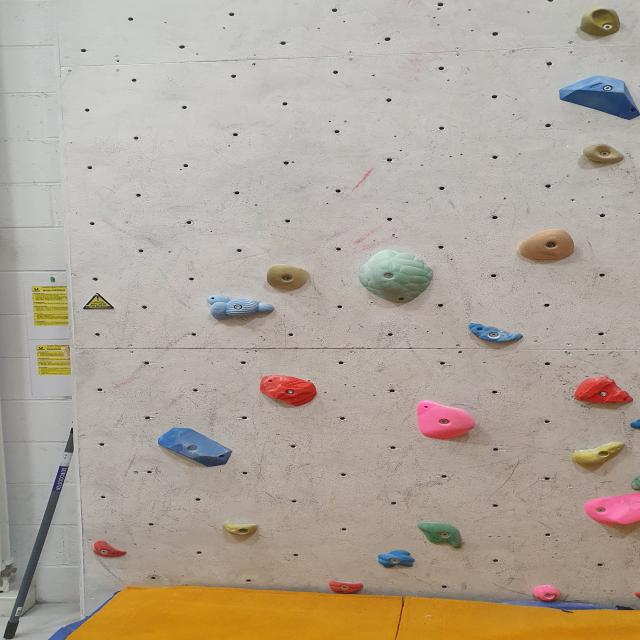Crimp: (156, 427, 232, 468), (256, 372, 319, 409), (571, 375, 637, 408), (465, 320, 530, 347), (417, 520, 466, 549), (222, 522, 260, 540), (92, 540, 129, 558), (376, 552, 416, 568), (531, 586, 562, 604), (328, 580, 363, 594)
Jug: (416, 402, 480, 442), (516, 230, 576, 263), (584, 495, 640, 528), (577, 9, 624, 39), (265, 264, 311, 292), (581, 144, 626, 166)
Pinch: (206, 294, 274, 318), (570, 442, 628, 468)
Sloper: (359, 248, 438, 304), (552, 75, 640, 120)
